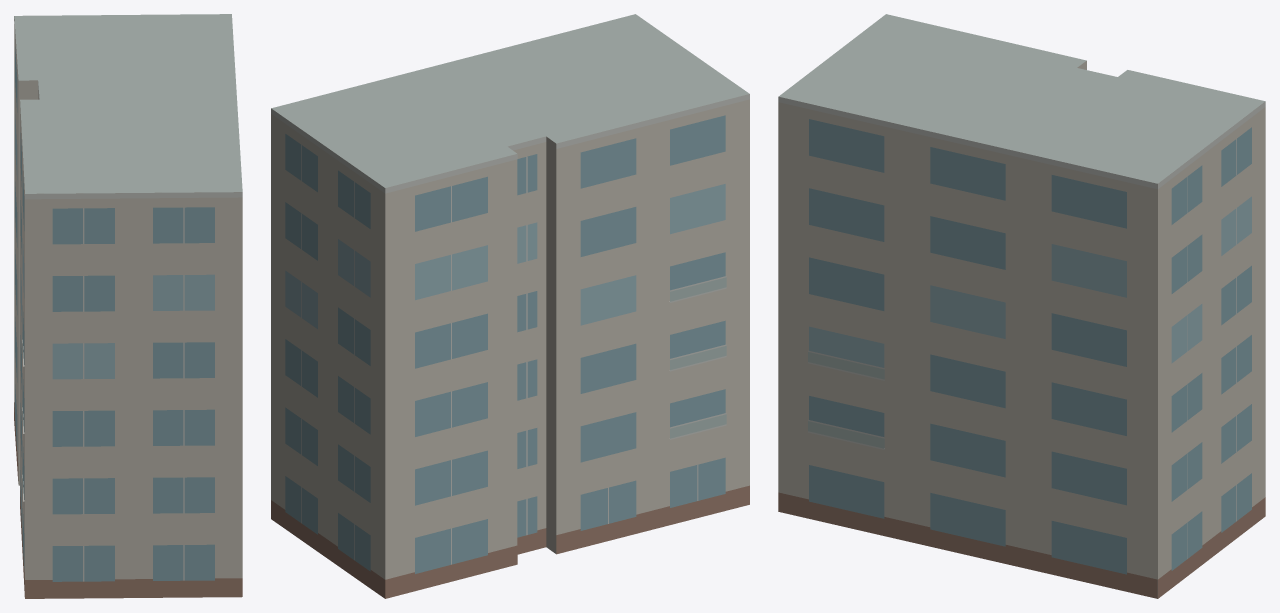
File: survey-upis-32555987.glb
3 views of the same model, side by side, from view 1: azimuth 30°, elevation 25°; view 2: azimuth 150°, elevation 25°; view 3: azimuth 270°, elevation 25° (orthographic). The views are drawn at different scales.
Visible parts, largest first — view 1: survey-upis-32555987.tmp; view 2: survey-upis-32555987.tmp; view 3: survey-upis-32555987.tmp.
Part boxes in pixels (bbox=[...]): survey-upis-32555987.tmp: bbox=[14, 14, 242, 598]; survey-upis-32555987.tmp: bbox=[271, 14, 749, 598]; survey-upis-32555987.tmp: bbox=[778, 14, 1265, 598].
Bounding box in the file's own units: 16.06 × 18.3 × 19.47.
